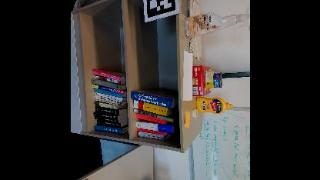book-spine: (129, 91, 173, 109), (131, 100, 168, 116), (132, 109, 173, 122), (135, 122, 173, 134), (90, 78, 121, 90), (91, 69, 121, 81), (135, 114, 165, 124), (93, 88, 123, 98), (91, 85, 124, 94), (93, 92, 122, 101), (93, 95, 122, 104), (93, 125, 122, 134), (94, 106, 119, 115), (94, 76, 120, 84), (92, 112, 118, 120), (136, 134, 165, 141), (136, 128, 165, 135), (136, 131, 165, 138), (95, 120, 120, 127), (93, 117, 119, 123), (95, 98, 117, 105), (94, 104, 116, 109), (93, 102, 115, 107)
